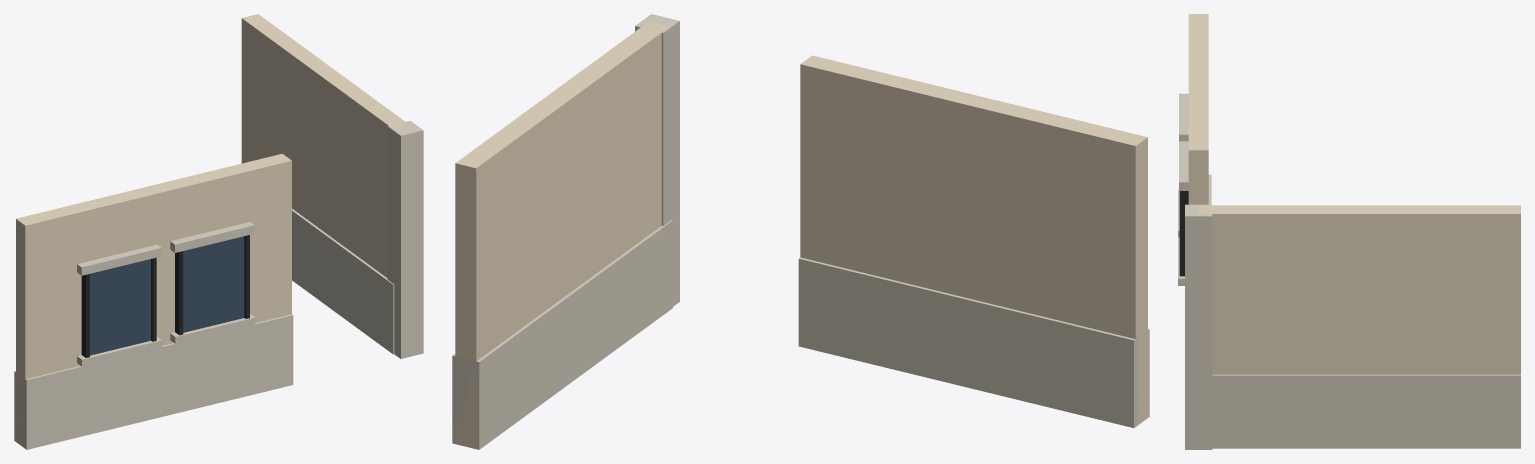
Rendered from arch.bay-corner.glb.
The picture shows the model from 3 angles, left to right: view 1: azimuth 30°, elevation 25°; view 2: azimuth 150°, elevation 25°; view 3: azimuth 270°, elevation 25°; orthographic projection. The views are drawn at different scales.
Parts seen in each view (by area): view 1: arch.bay-corner; view 2: arch.bay-corner; view 3: arch.bay-corner.
Boxes of the visible parts, x1,y1,x2,y2 form: arch.bay-corner: [14, 14, 423, 449]; arch.bay-corner: [452, 14, 1149, 449]; arch.bay-corner: [1178, 14, 1520, 449].
Size of the model in its own units: 5.94 by 3.2 by 4.26.
